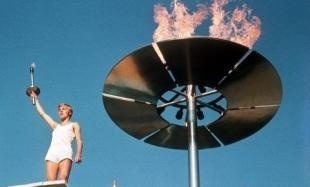fire: (151, 0, 263, 43)
